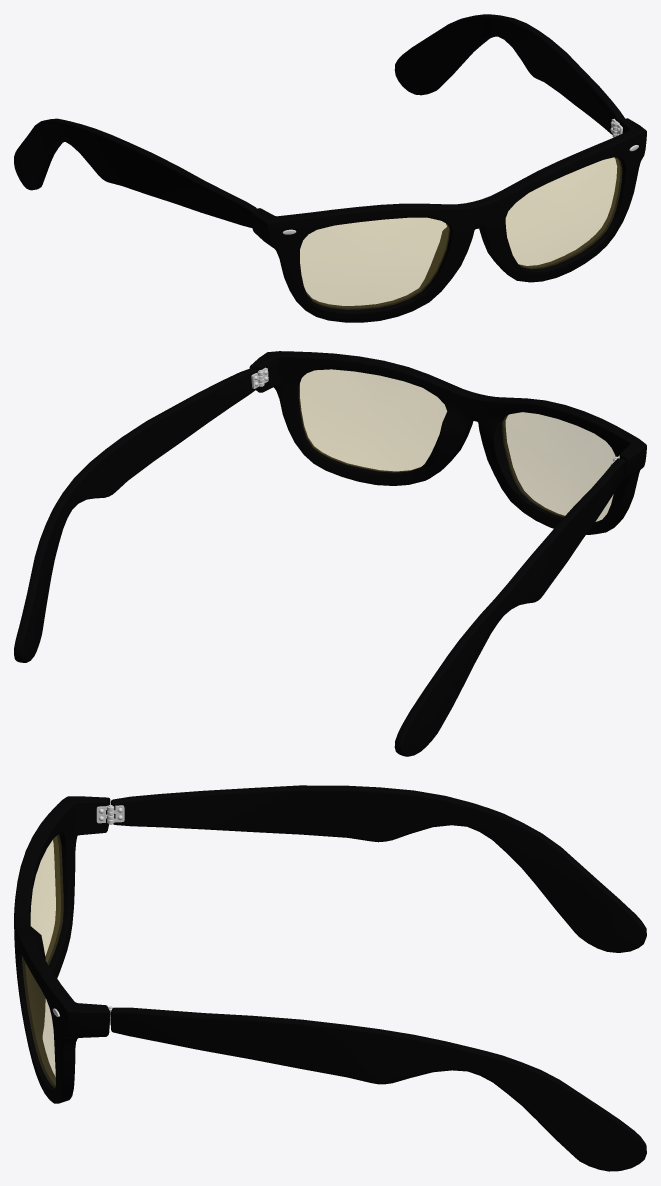
The model's file is sunglasses.glb.
The picture shows the model from 3 angles, top to bottom: view 1: azimuth 30°, elevation 25°; view 2: azimuth 150°, elevation 25°; view 3: azimuth 270°, elevation 25°; orthographic projection. The views are drawn at different scales.
Parts seen in each view (by area): view 1: Sunglasses; view 2: Sunglasses; view 3: Sunglasses.
Boxes of the visible parts, bbox=[...] form: Sunglasses: bbox=[14, 14, 646, 322]; Sunglasses: bbox=[14, 351, 646, 756]; Sunglasses: bbox=[14, 785, 646, 1171].
Bounding box in the file's own units: 15.43 × 4.66 × 16.51.
